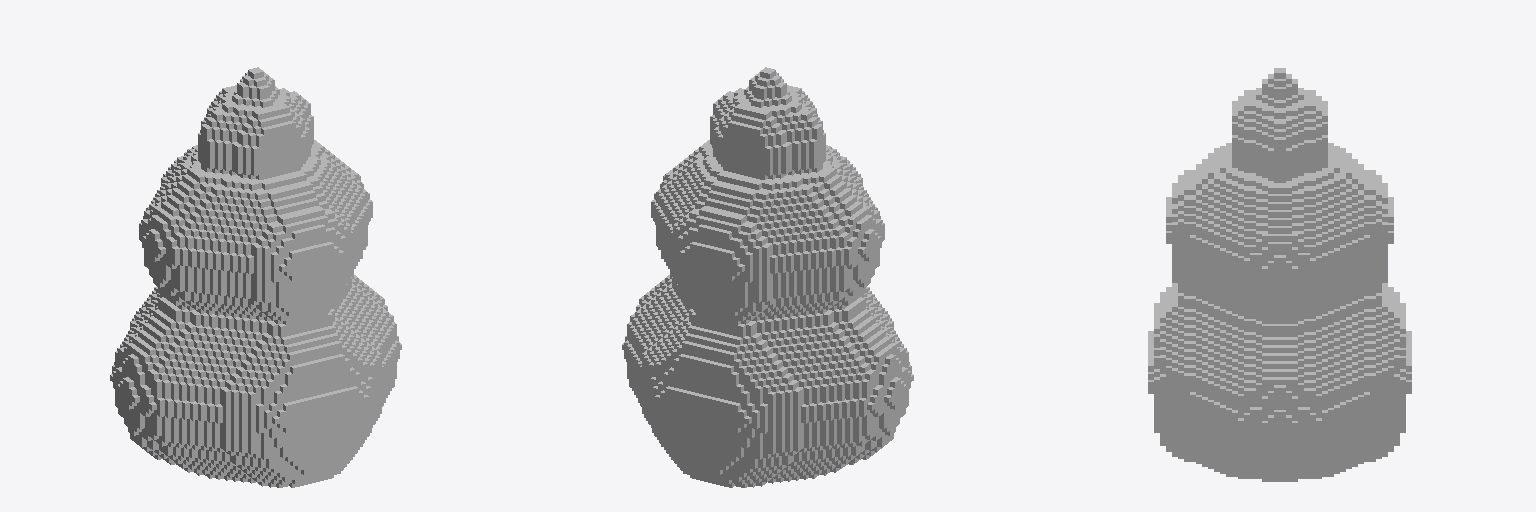
The model's file is shell.obj.
3 renders of one model, left to right at view 1: azimuth 30°, elevation 25°; view 2: azimuth 150°, elevation 25°; view 3: azimuth 270°, elevation 25°, orthographic.
Visible parts, largest first — view 1: object 1; view 2: object 1; view 3: object 1.
Part boxes in pixels (x1,y1,x2,y2): object 1: (110, 67, 401, 487); object 1: (622, 67, 913, 487); object 1: (1148, 68, 1411, 481).
Size of the model in its own units: 5 by 6.8 by 4.4.